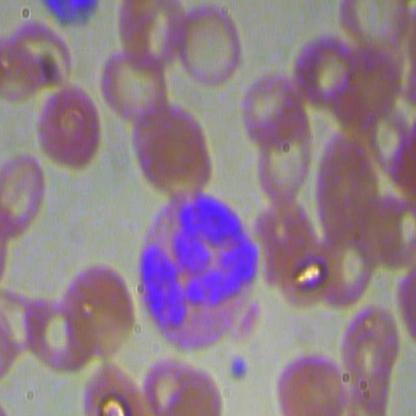Platelets: (228, 349, 251, 384)
RBC: (132, 100, 218, 198), (316, 131, 384, 251), (58, 260, 137, 363), (247, 110, 316, 210), (32, 85, 106, 170), (173, 0, 246, 85), (235, 63, 308, 148), (112, 0, 189, 76), (98, 50, 170, 129), (274, 341, 348, 415), (338, 300, 399, 384), (139, 357, 225, 415), (1, 146, 45, 238), (74, 363, 148, 415)
WBC: (123, 182, 263, 354)
